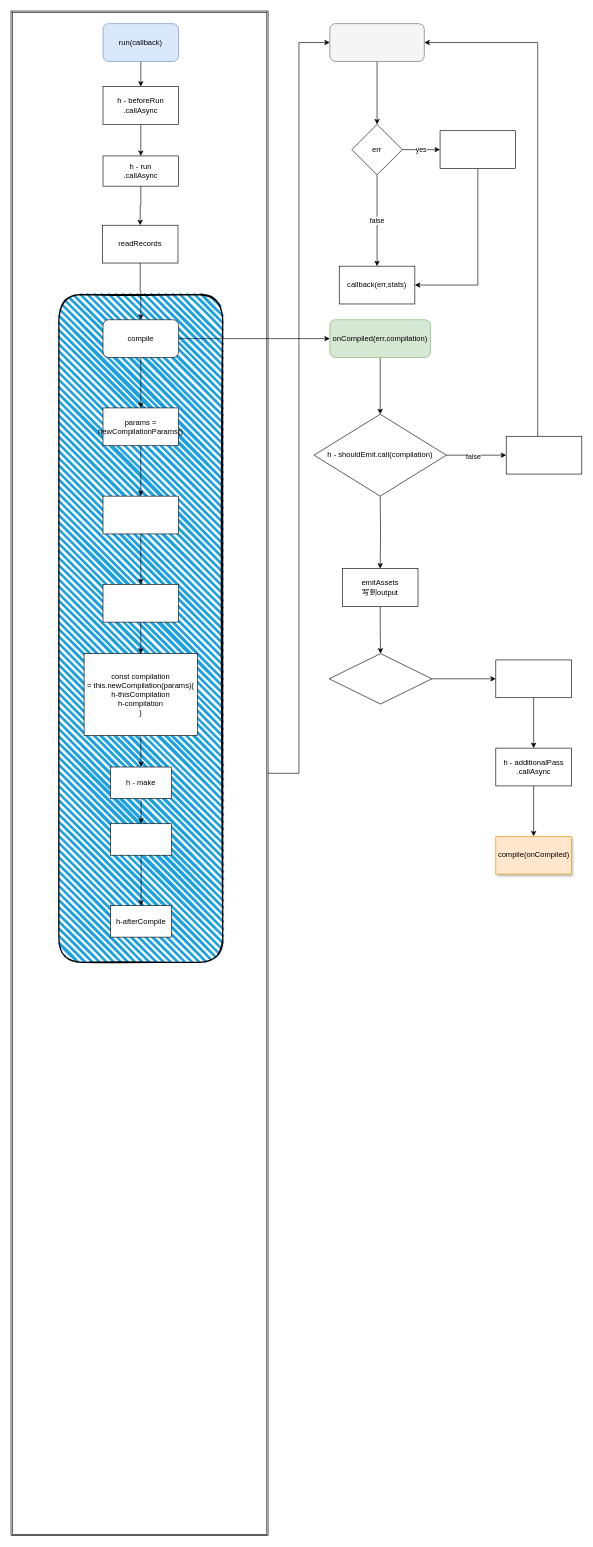
This 593x1547 diagram has some shape labels left out. The centre of each missing label's shape, as x and y in pixels:
"compilation .finish .seal" belongs at point (141, 839).
"finallyCallback(err,stats)" belongs at point (376, 42).
"h - beforeCompile" belongs at point (140, 514).
"h - compile.call" belongs at point (140, 603).
"h - needAdditionalPass" belongs at point (380, 678).
"h-done .callAsync" belongs at point (533, 678).
"h-done.callAsync(stats)" belongs at point (544, 455).
"h-failed.call" belongs at point (477, 149).
